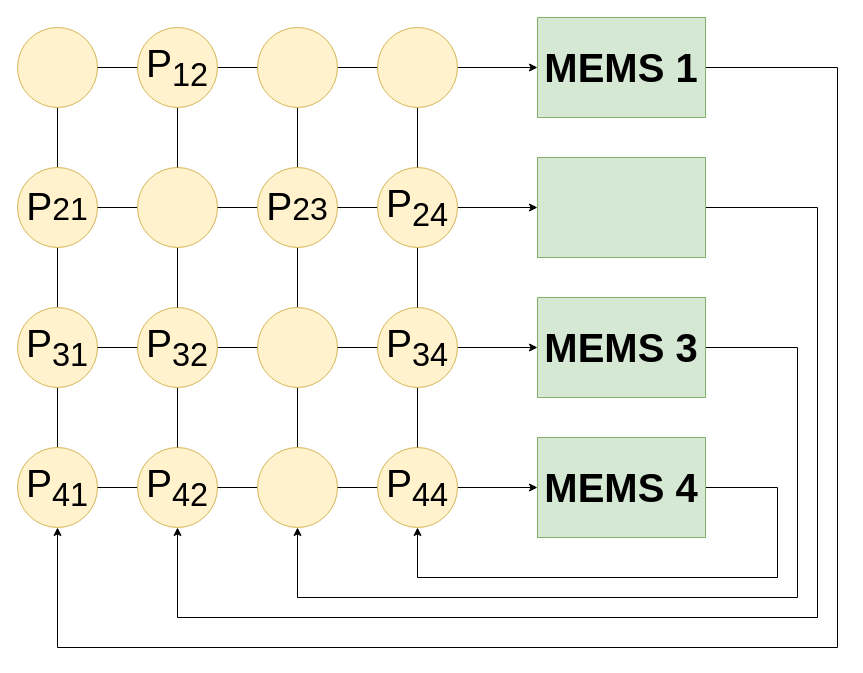
Some shapes in this 863 by 673 pixel diagram are drawn without their labels. The centre of each missing label's shape, as x and y in pixels:
"MEMS 2" goes at (621,207).
"P 11" goes at (57,67).
"P 13" goes at (297,67).
"P 14" goes at (417,67).
"P 22" goes at (177,207).
"P 33" goes at (297,347).
"P 43" goes at (297,487).
